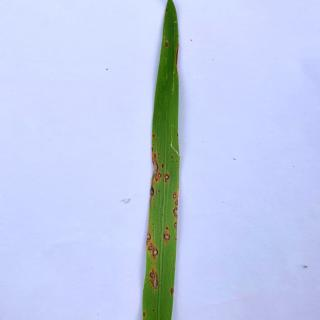Blast: (147, 145, 161, 182), (146, 264, 162, 290), (145, 238, 158, 258), (158, 224, 170, 243), (171, 206, 185, 222), (158, 166, 170, 184), (166, 279, 176, 297), (170, 188, 180, 204), (148, 186, 158, 198), (161, 38, 171, 49)
